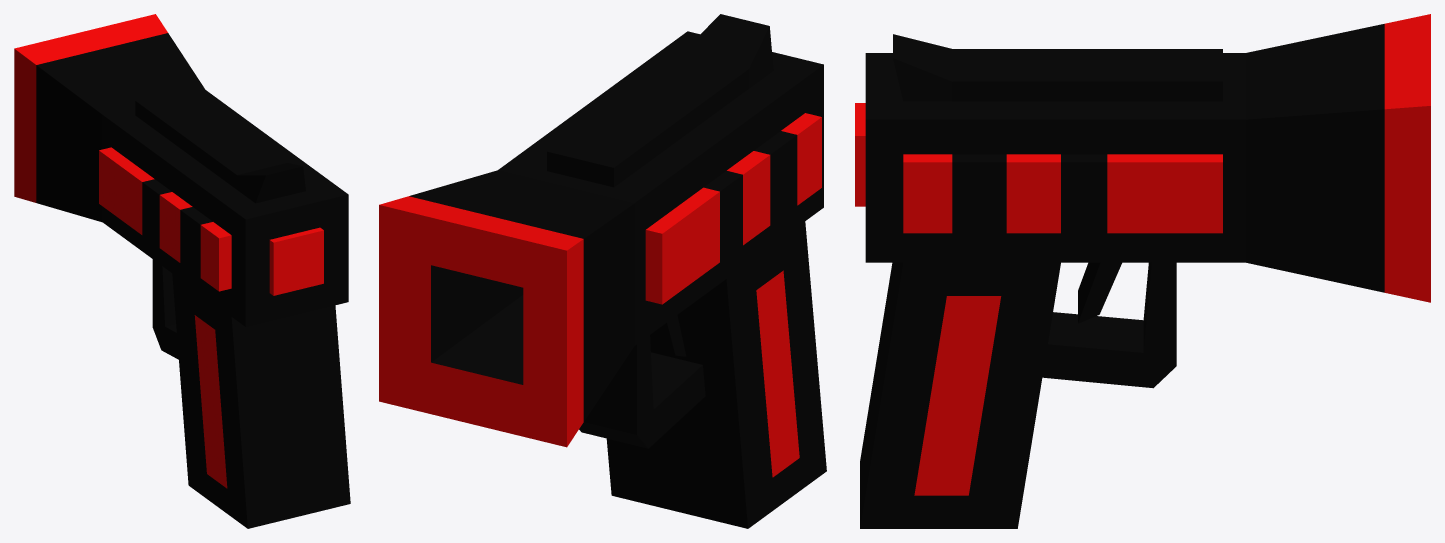
The model's file is gun3.fbx.
The picture shows the model from 3 angles, left to right: view 1: azimuth 30°, elevation 25°; view 2: azimuth 150°, elevation 25°; view 3: azimuth 270°, elevation 25°; orthographic projection. The views are drawn at different scales.
Visible parts, largest first — view 1: Cube; view 2: Cube; view 3: Cube.
Boxes of the visible parts, left/top/right/bottom form: Cube: left=14, top=14, right=350, bottom=528; Cube: left=379, top=14, right=826, bottom=528; Cube: left=855, top=14, right=1430, bottom=528.
Bounding box in the file's own units: 275 × 626 × 729.
